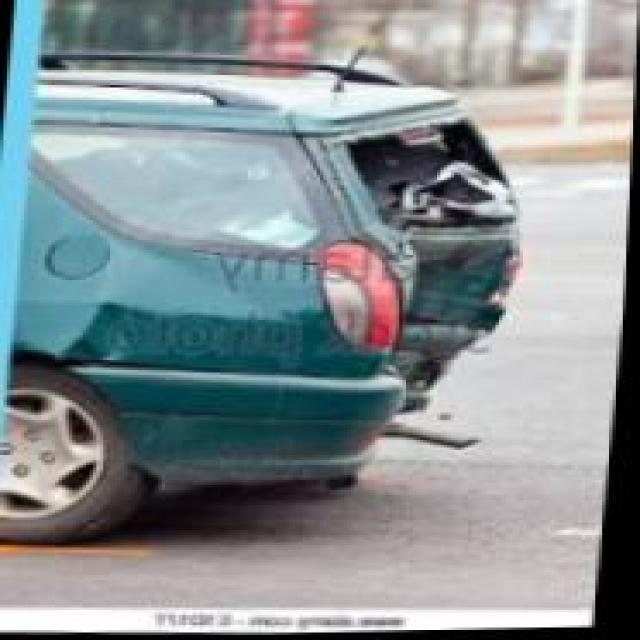Dickey: (329, 124, 520, 373)
Fender: (19, 214, 392, 392)
